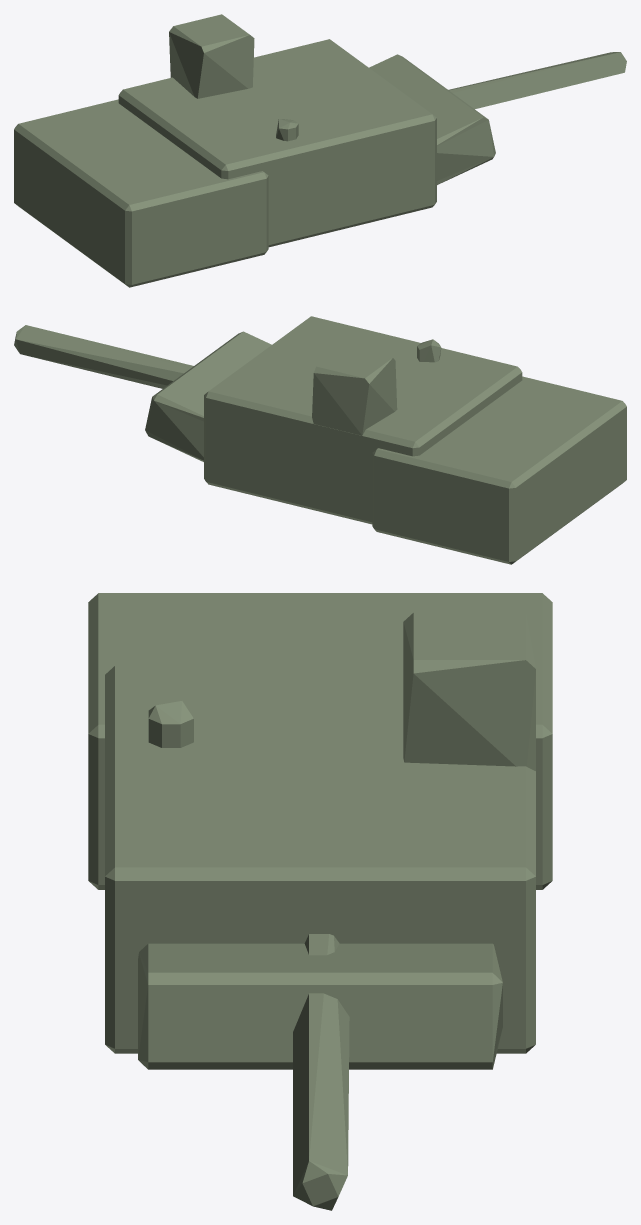
Rendered from tank_turret_fr.lod1.glb.
The picture shows the model from 3 angles, top to bottom: view 1: azimuth 30°, elevation 25°; view 2: azimuth 150°, elevation 25°; view 3: azimuth 270°, elevation 25°; orthographic projection. The views are drawn at different scales.
Size of the model in its own units: 3.85 by 0.98 by 1.4.
